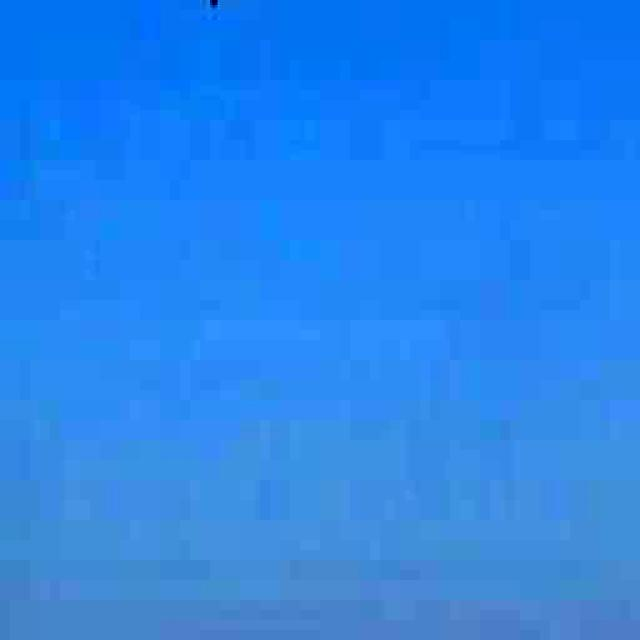bird: (171, 0, 281, 21)
